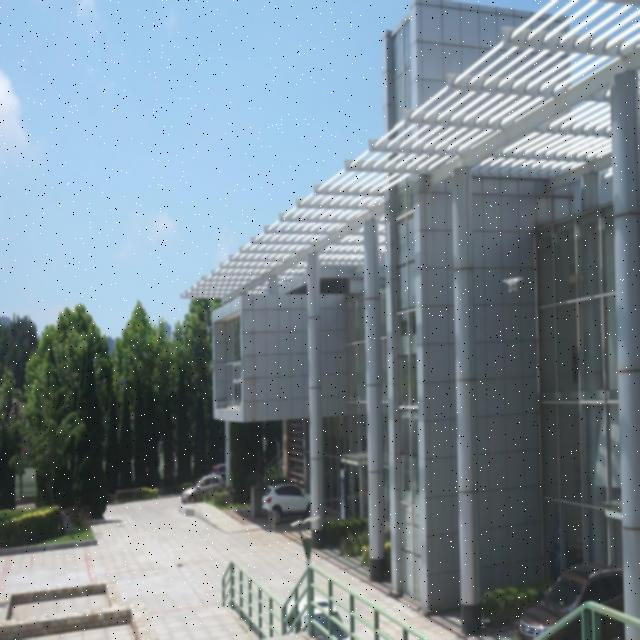UAV: (502, 277, 524, 292)
